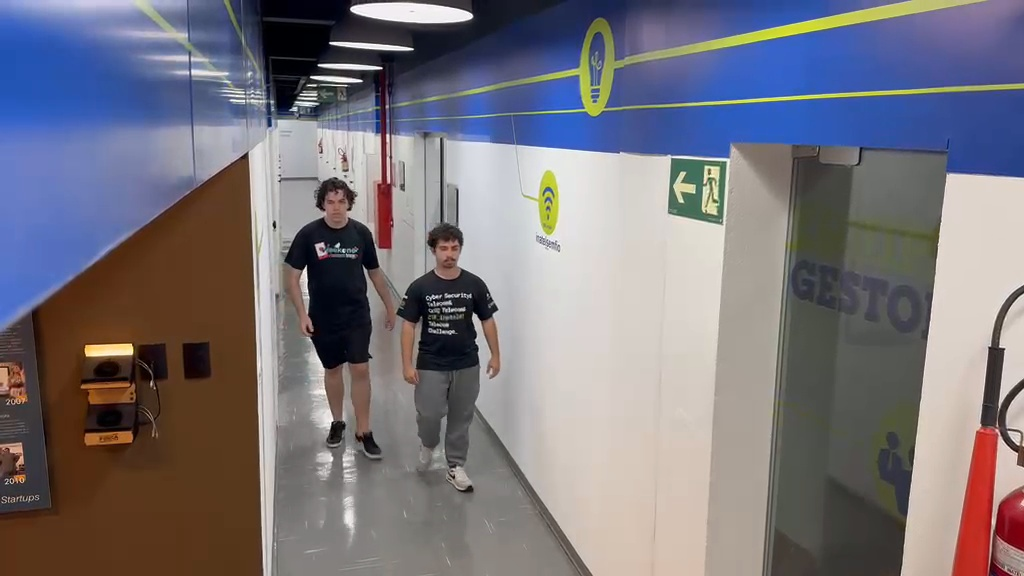person: (282, 178, 403, 455), (396, 223, 501, 494)
